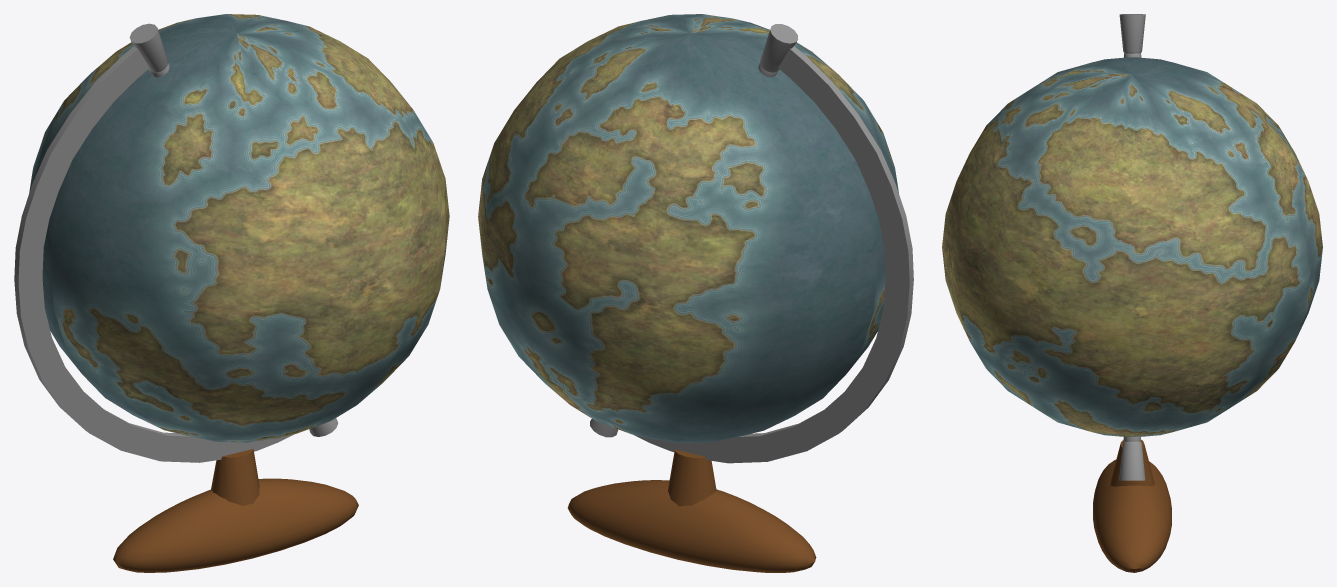
Rendered from Globo terráqueo.fbx.
The picture shows the model from 3 angles, left to right: view 1: azimuth 30°, elevation 25°; view 2: azimuth 150°, elevation 25°; view 3: azimuth 270°, elevation 25°; orthographic projection. The views are drawn at different scales.
Visible parts, largest first — view 1: Sphere; view 2: Sphere; view 3: Sphere.
Part boxes in pixels (x1=…): Sphere: x1=14, y1=14, x2=449, y2=572; Sphere: x1=478, y1=14, x2=913, y2=572; Sphere: x1=942, y1=14, x2=1322, y2=572.
Size of the model in its own units: 178 by 229 by 163.
3 materials, 1 textured.
